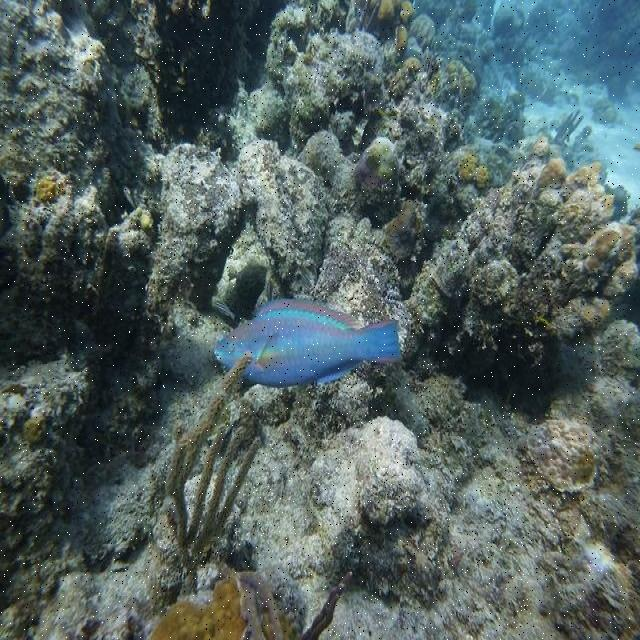aquatic plants: (144, 352, 263, 618)
fish: (213, 299, 403, 386)
